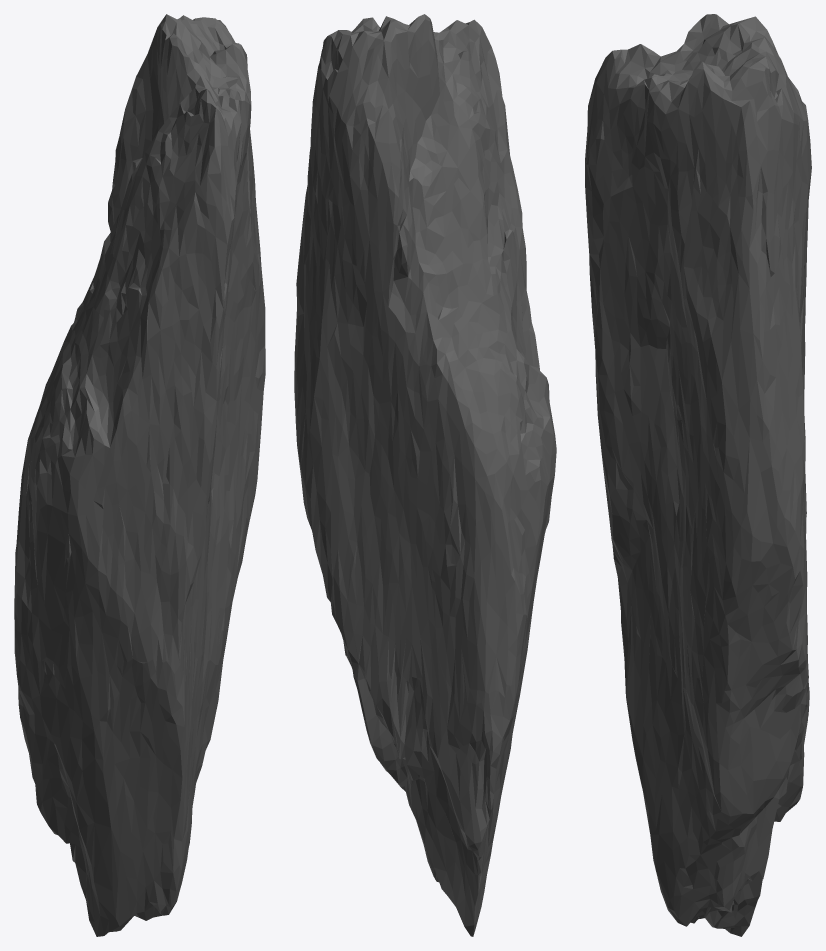
The model's file is truth.obj.
3 views of the same model, side by side, from view 1: azimuth 30°, elevation 25°; view 2: azimuth 150°, elevation 25°; view 3: azimuth 270°, elevation 25° (orthographic). The views are drawn at different scales.
Parts seen in each view (by area): view 1: geometry; view 2: geometry; view 3: geometry.
Part boxes in pixels (x1=…): geometry: x1=14, y1=14, x2=265, y2=936; geometry: x1=294, y1=14, x2=556, y2=936; geometry: x1=585, y1=14, x2=811, y2=936.
Size of the model in its own units: 0.95 by 3.5 by 0.75.
Materials: 1 (1 with a texture image).
